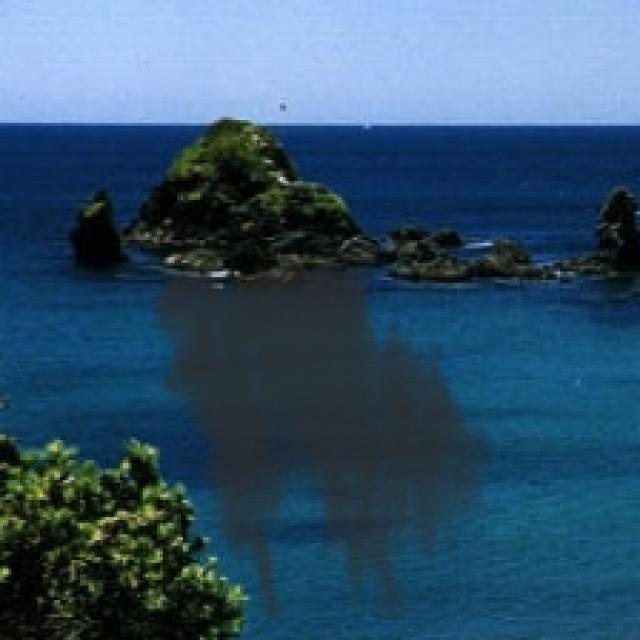Smoke: (134, 235, 506, 620)
